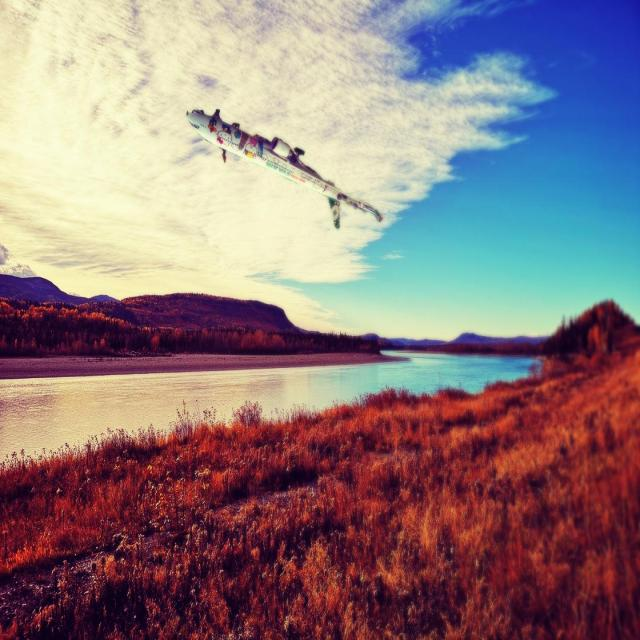airplane: (185, 107, 383, 229)
